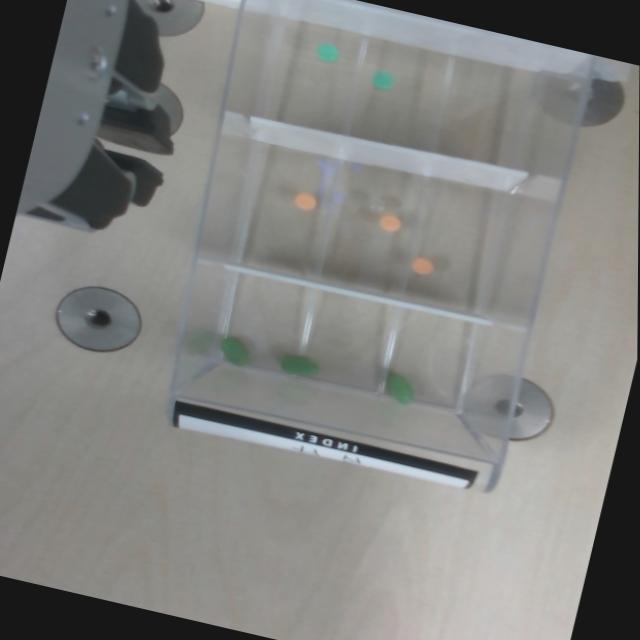famodine: (314, 40, 342, 63), (371, 69, 398, 91)
otillen_tab: (380, 372, 419, 406), (277, 350, 318, 380), (215, 335, 252, 368), (384, 372, 414, 405), (279, 355, 318, 377), (219, 337, 249, 365)
samsung_octylonium_tab: (408, 254, 434, 276), (377, 213, 403, 234), (291, 190, 317, 211)
